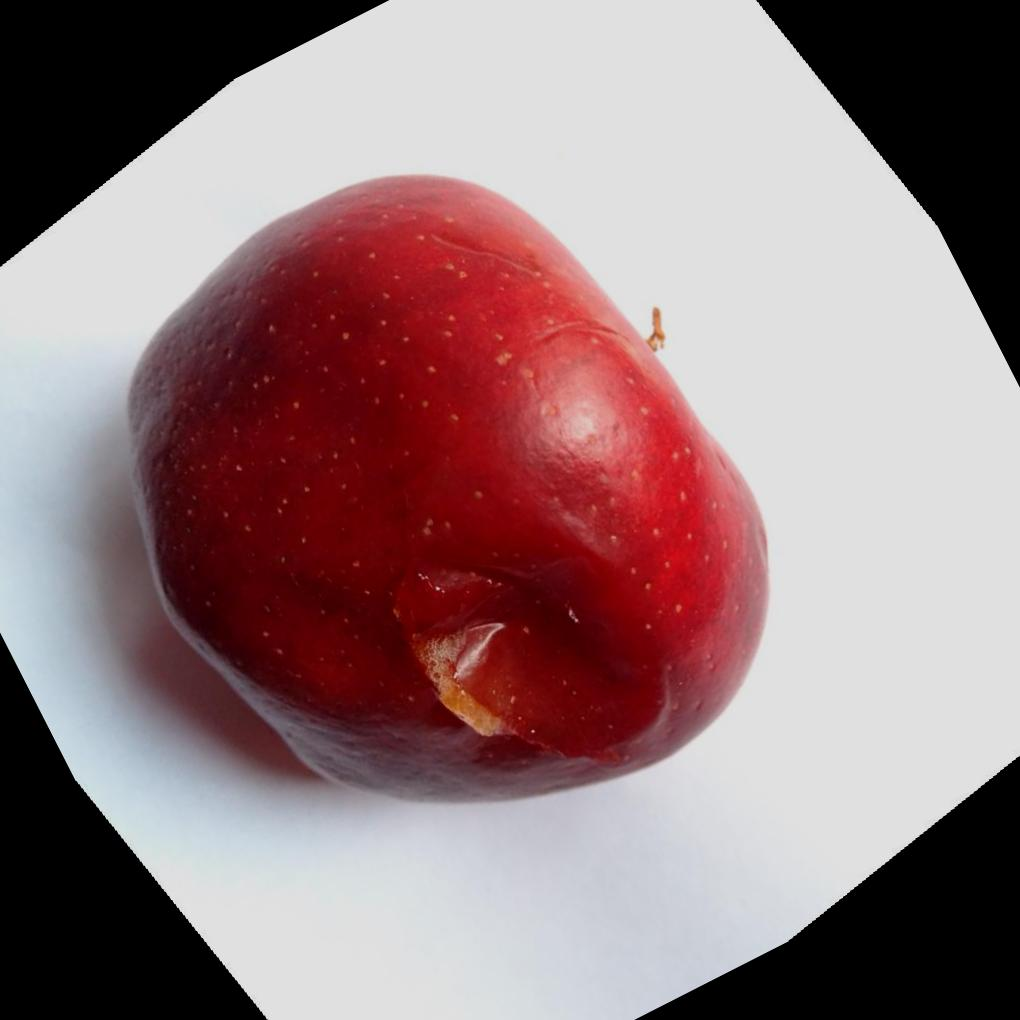FreshOrange: (124, 173, 775, 809)
